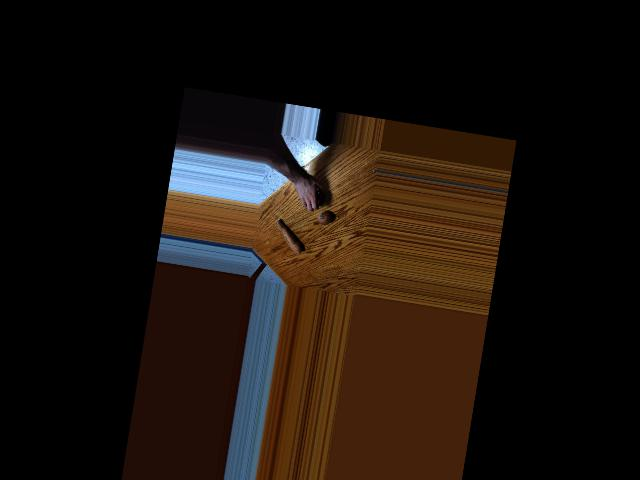onion: (308, 190, 325, 206)
